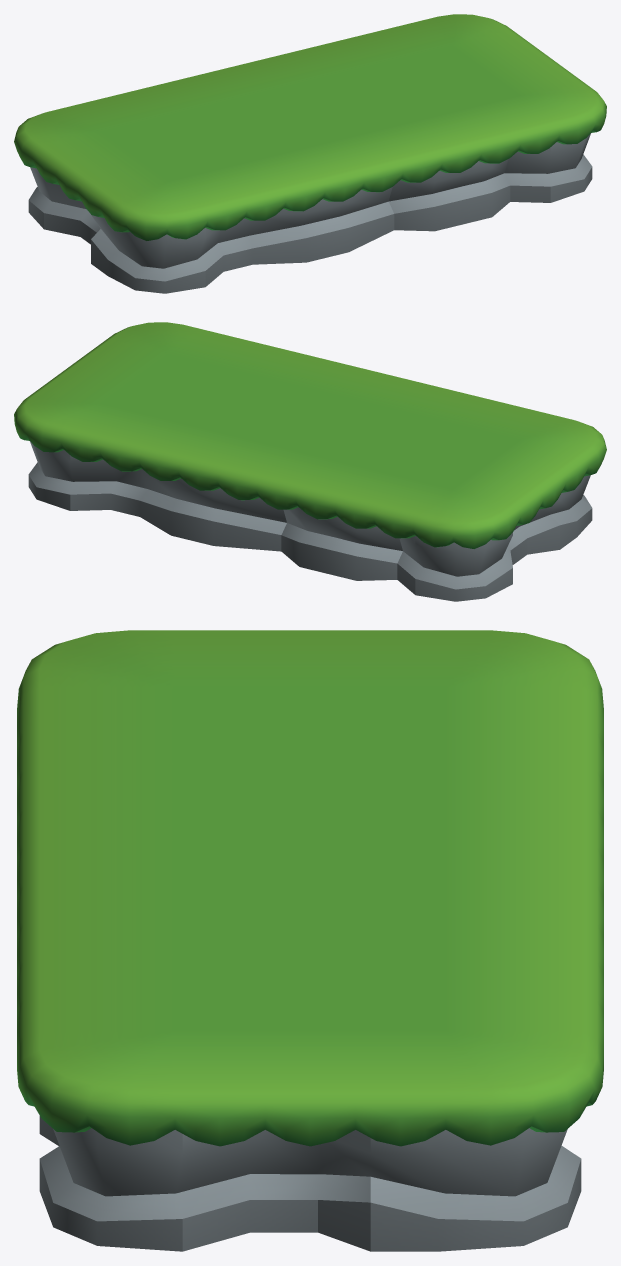
Rendered from Hill_12x6x2_Color1.gltf.
3 renders of one model, top to bottom at view 1: azimuth 30°, elevation 25°; view 2: azimuth 150°, elevation 25°; view 3: azimuth 270°, elevation 25°, orthographic. The views are drawn at different scales.
Parts seen in each view (by area): view 1: Hill_12x6x2_Color1; view 2: Hill_12x6x2_Color1; view 3: Hill_12x6x2_Color1.
Boxes of the visible parts, left/top/right/bottom form: Hill_12x6x2_Color1: left=14, top=14, right=606, bottom=293; Hill_12x6x2_Color1: left=14, top=322, right=606, bottom=601; Hill_12x6x2_Color1: left=17, top=630, right=603, bottom=1251.
Size of the model in its own units: 12.5 by 2 by 6.5.
Materials: 1 (1 with a texture image).
